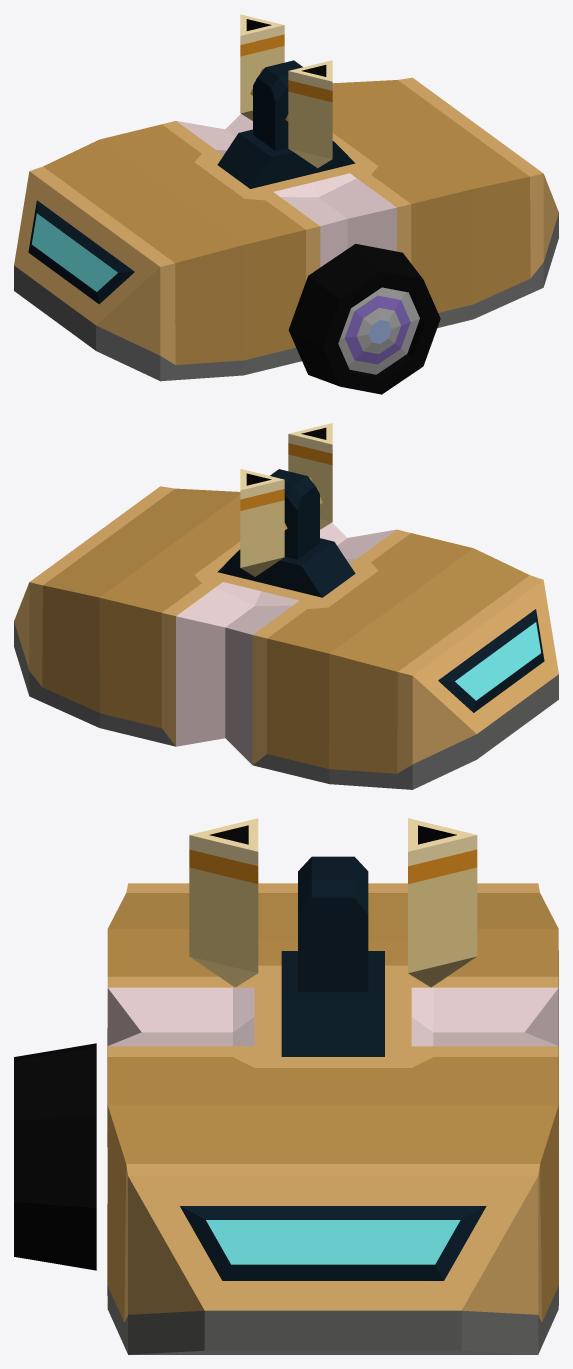
The model's file is tankGauss.fbx.
3 views of the same model, one above another, from view 1: azimuth 30°, elevation 25°; view 2: azimuth 150°, elevation 25°; view 3: azimuth 270°, elevation 25° (orthographic). The views are drawn at different scales.
Parts seen in each view (by area): view 1: TankGauss, TankGaussWheel, TankGaussBarrel; view 2: TankGauss, TankGaussBarrel; view 3: TankGauss, TankGaussBarrel, TankGaussWheel.
Boxes of the visible parts, x1,y1,x2,y2 form: TankGauss: (14, 60, 558, 381); TankGaussWheel: (288, 243, 440, 394); TankGaussBarrel: (240, 14, 332, 168); TankGauss: (14, 469, 558, 789); TankGaussBarrel: (240, 423, 332, 576); TankGauss: (107, 856, 558, 1354); TankGaussBarrel: (189, 818, 477, 987); TankGaussWheel: (14, 1043, 96, 1270).
Size of the model in its own units: 106 by 61.14 by 69.17.
Materials: 1 (1 with a texture image).
